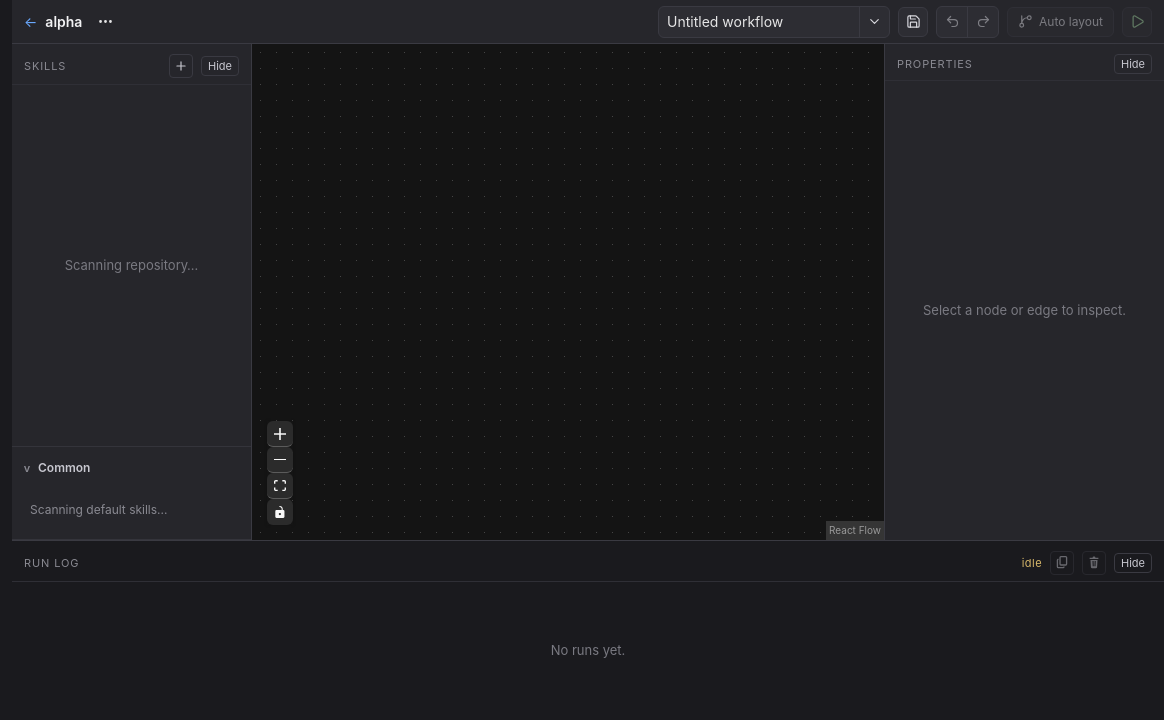
Scenario: Workspace › W1b: surfaces Finder open failures as an app error
The width and height of the screenshot is (1164, 720).
Step 1. Click the button with test id "workflow-settings" → (105, 22), box [90, 6, 120, 36]
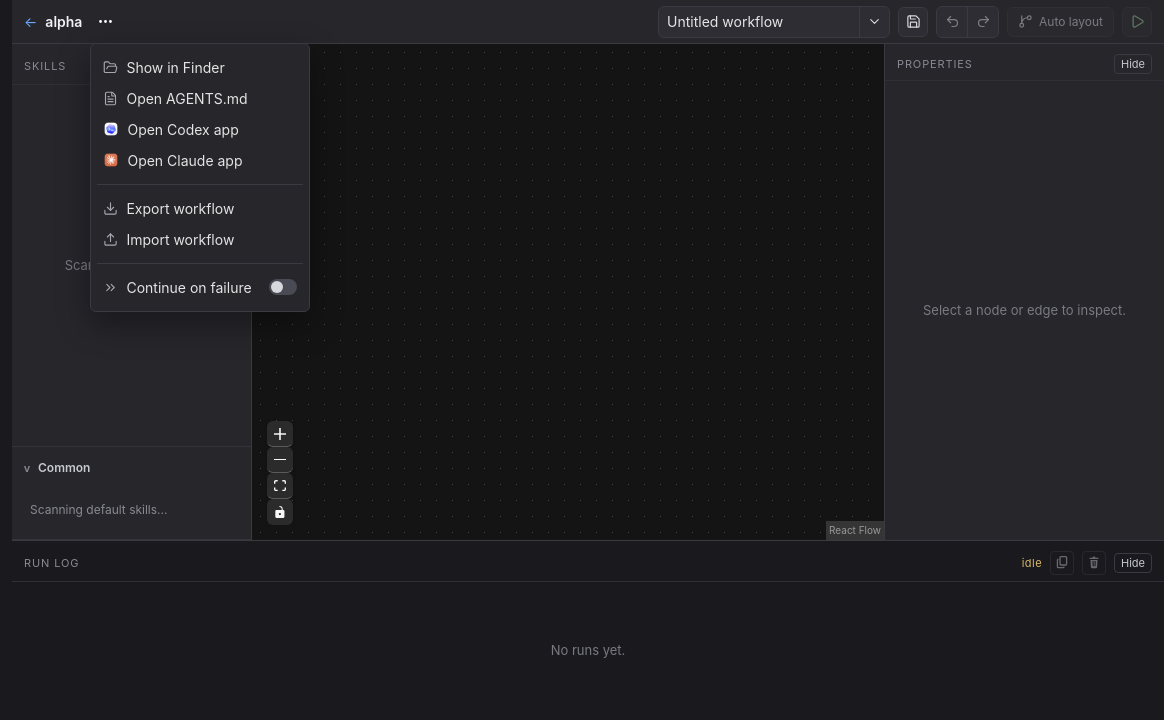
Step 2. Click the menu item with test id "show-repository-in-finder" → (200, 67), box [97, 52, 303, 82]
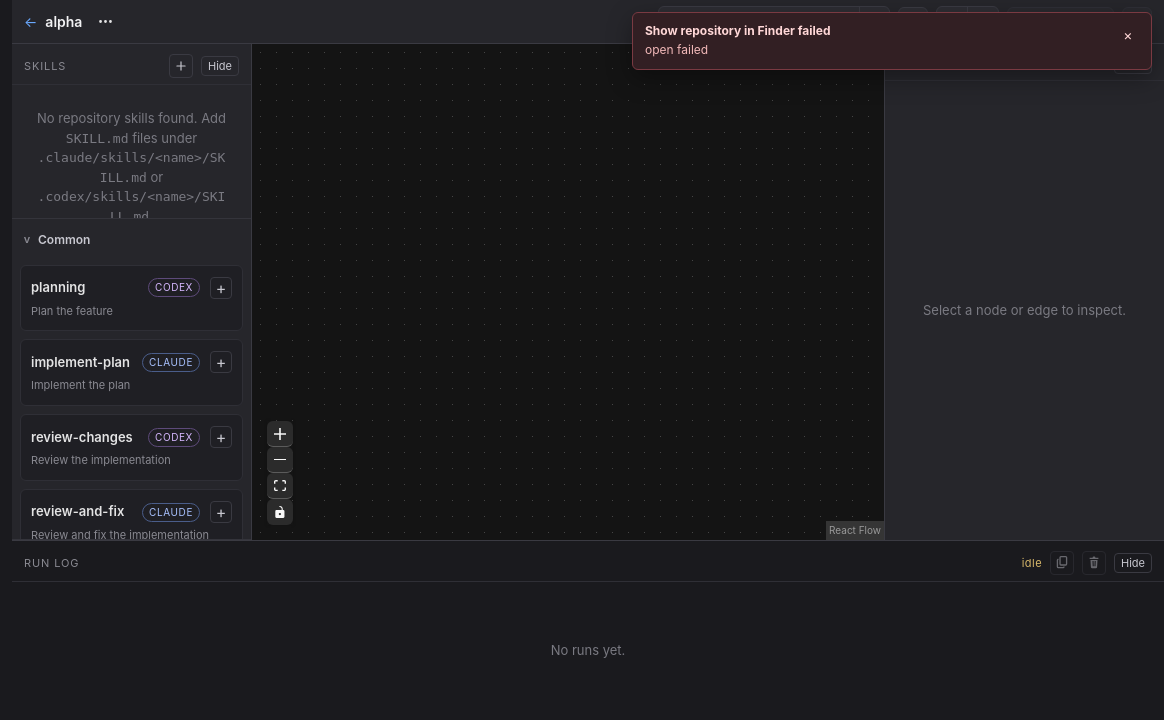
Check: the message with test id "app-error-alert" shows "Show repository in Finder failed", box [645, 23, 830, 38]
Check: the message with test id "app-error-alert" shows "open failed", box [645, 42, 708, 57]
